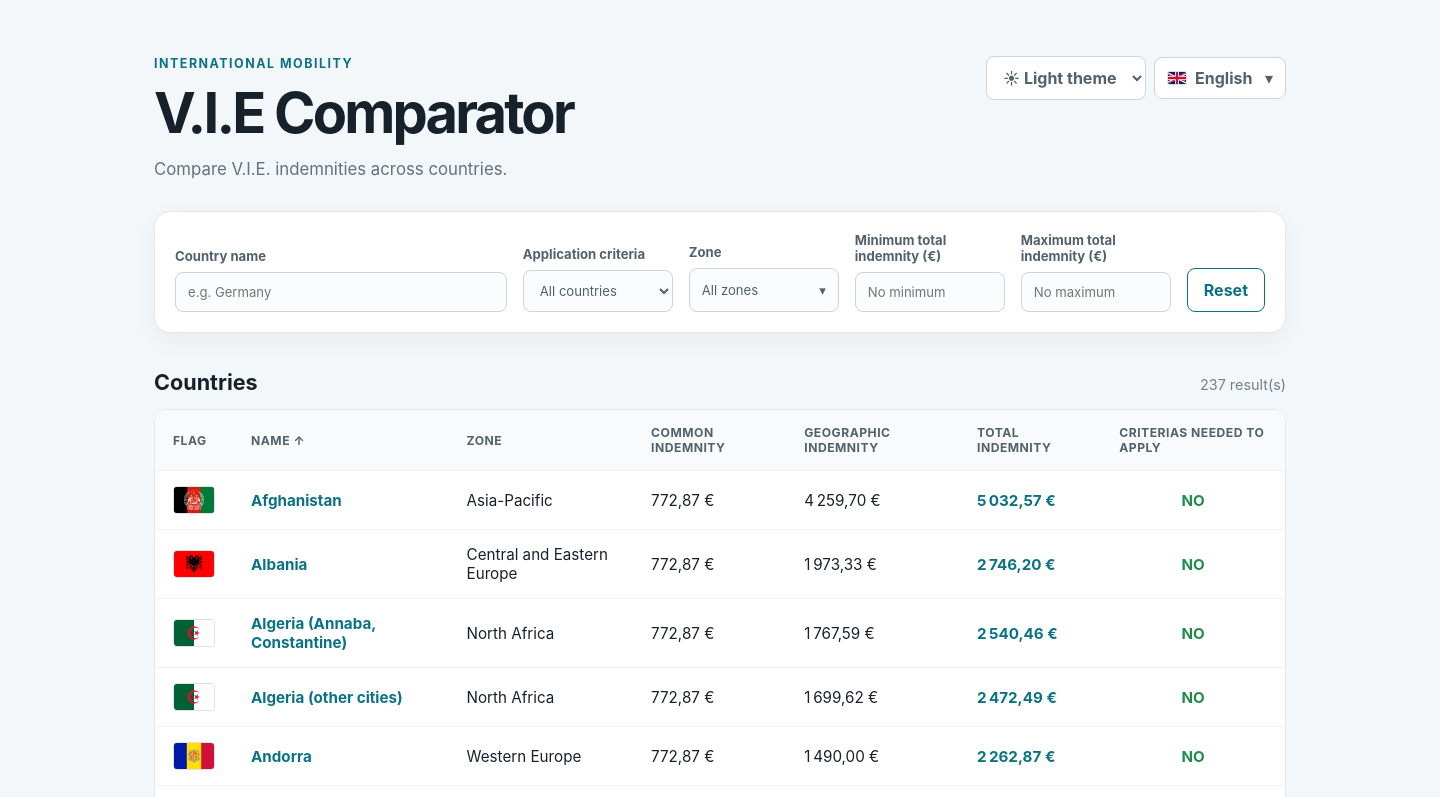
Test: Integration tests: V.I.E Comparator › translates country names and regional variants in English
Type "China" into the search field with test id "name-filter" at (341, 292), box [175,272,507,312]
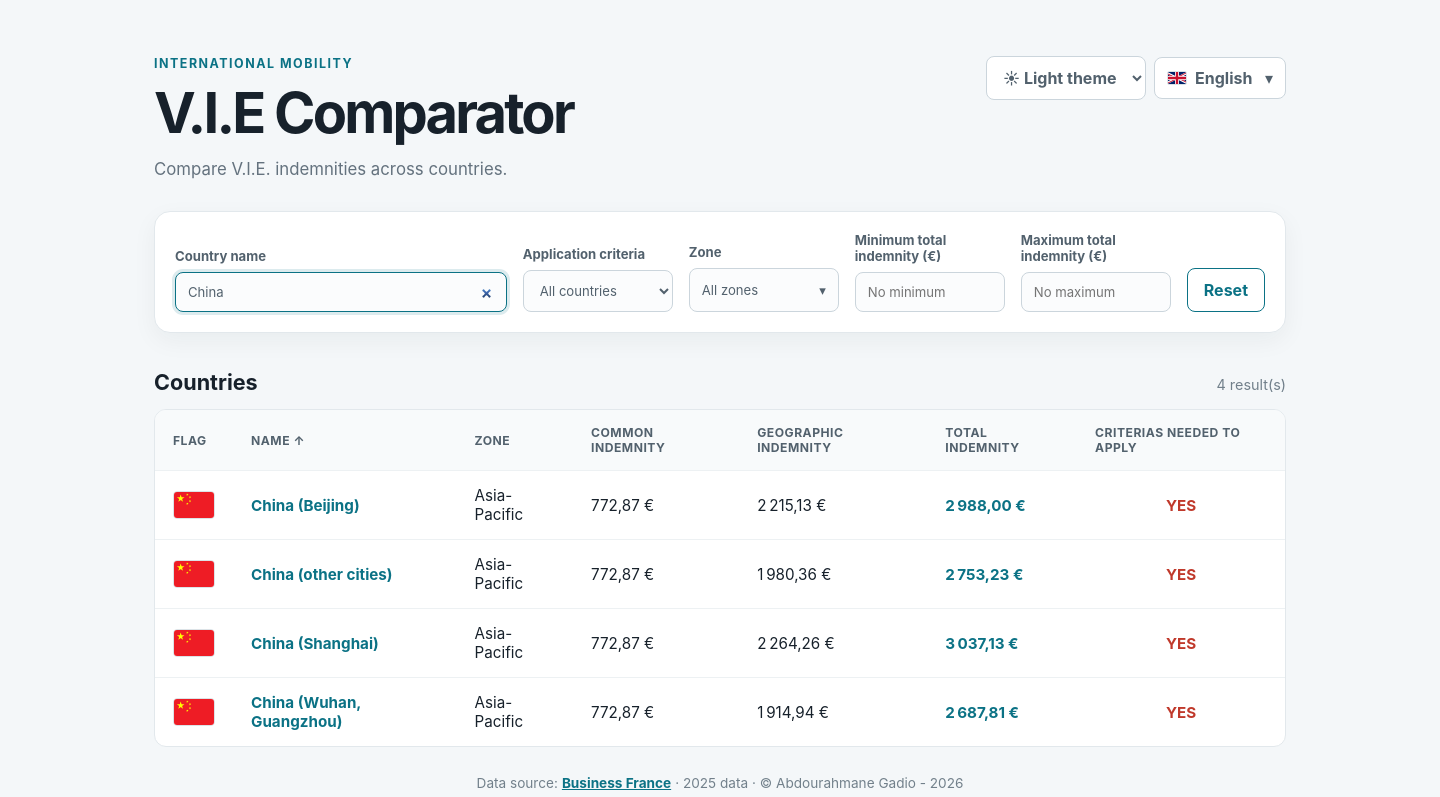
Replace the text in the search field with test id "name-filter" with "Cayman" at (341, 292), box [175,272,507,312]
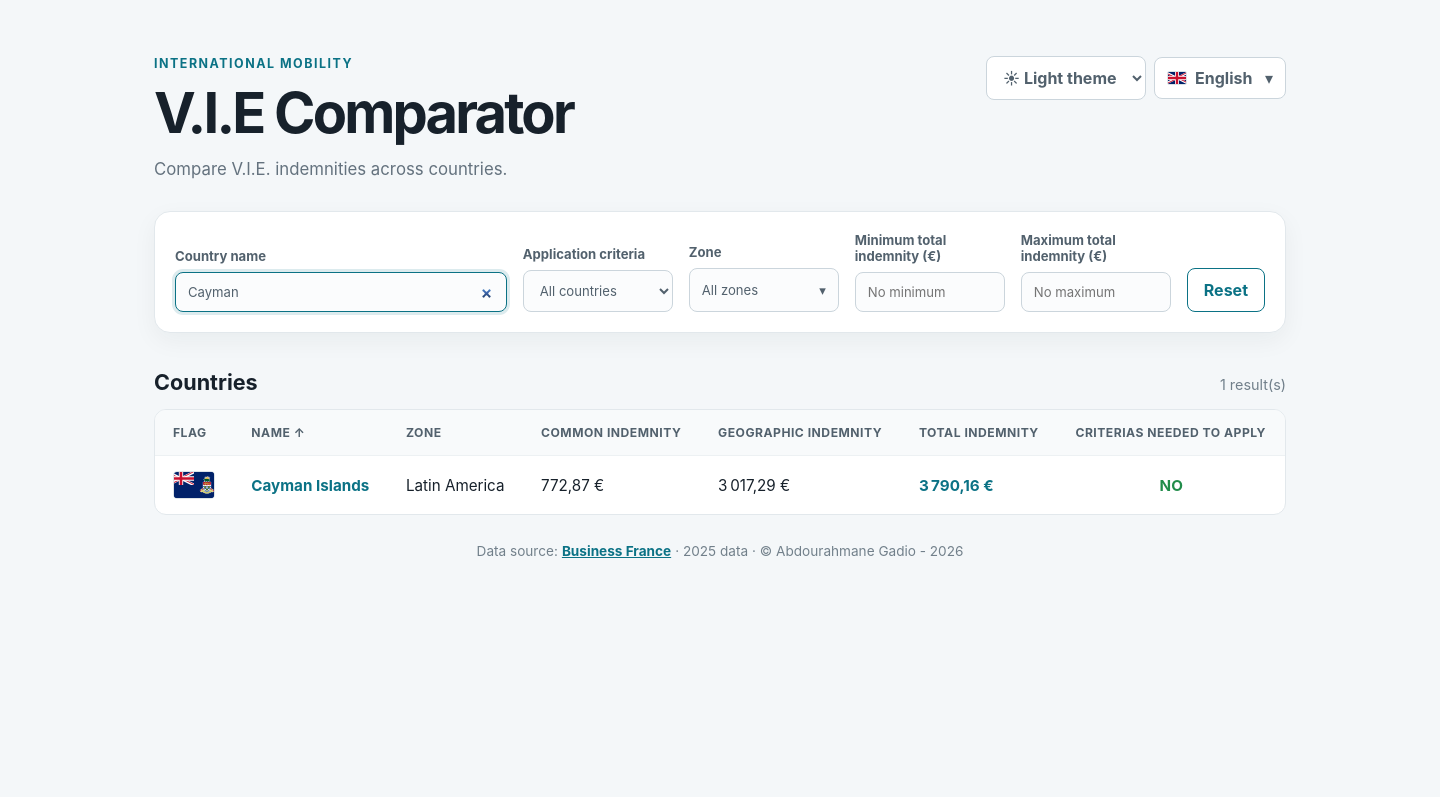
Replace the text in the search field with test id "name-filter" with "United States" at (341, 292), box [175,272,507,312]
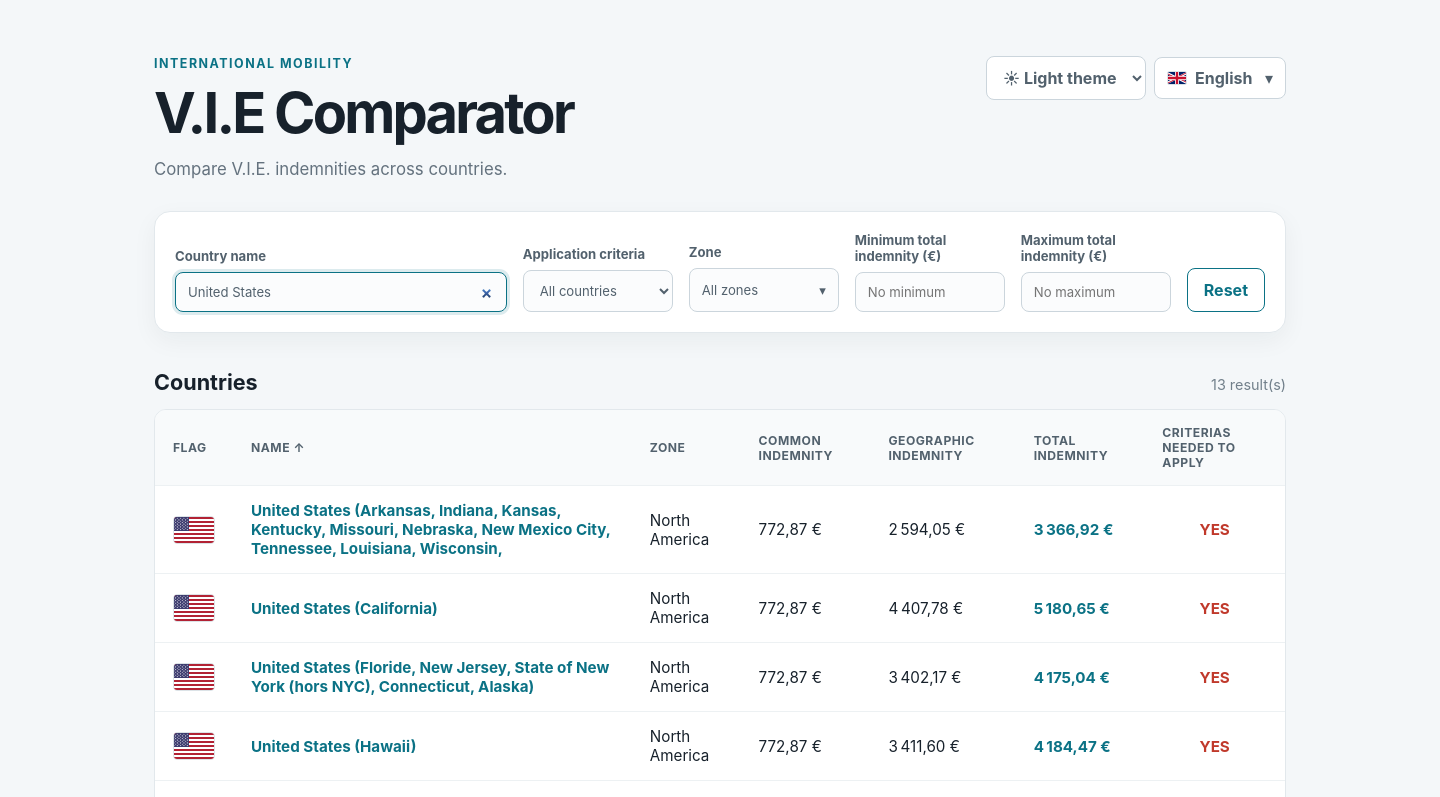
Check: the button "United States (California)" is shown, box [251,598,438,618]
